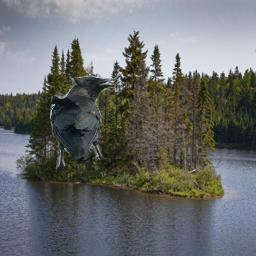Crow: (50, 73, 116, 178)
